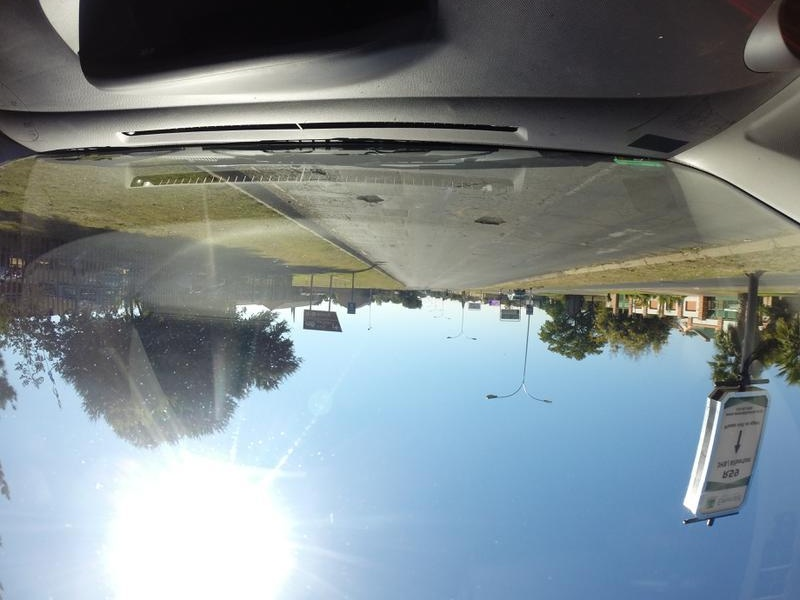pothole: (469, 204, 526, 229), (350, 191, 395, 211), (303, 166, 339, 182)
